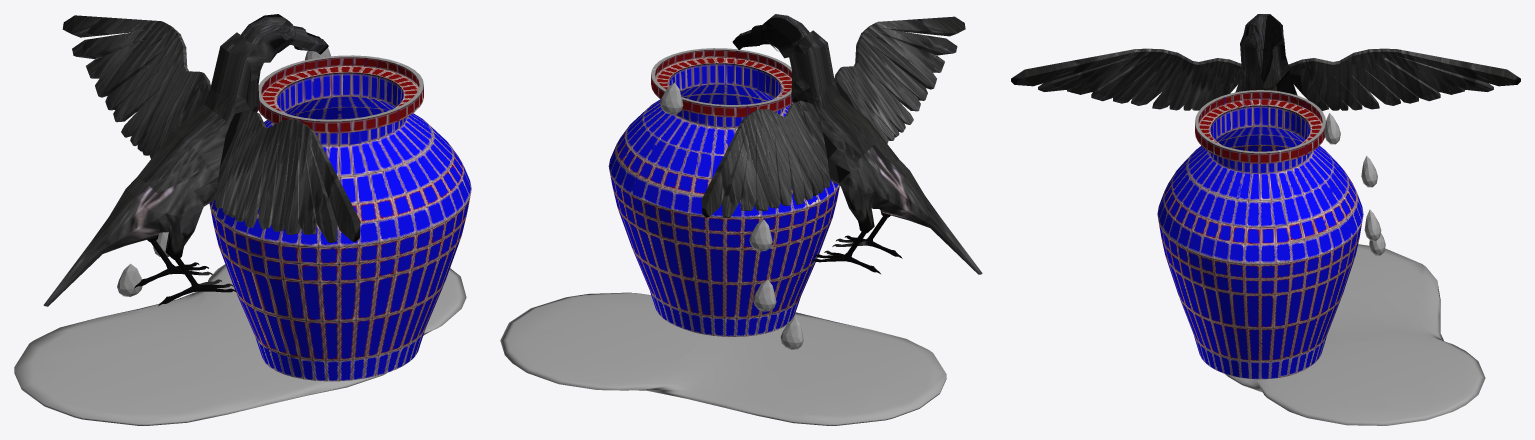
Rendered from bheegahuakaua17.obj.
The picture shows the model from 3 angles, left to right: view 1: azimuth 30°, elevation 25°; view 2: azimuth 150°, elevation 25°; view 3: azimuth 270°, elevation 25°; orthographic projection. The views are drawn at different scales.
Parts seen in each view (by area): view 1: Circle, Cylinder, Mball, Icosphere.002_Icosphere.003; view 2: Circle, Mball, Cylinder, Icosphere_Icosphere.001, Icosphere.002_Icosphere.003, Icosphere.001_Icosphere.002, Icosphere.003_Icosphere.004; view 3: Circle, Mball, Cylinder.
Boxes of the visible parts, x1=… form: Circle: x1=209, y1=55, x2=471, y2=381; Cylinder: x1=43, y1=14, x2=360, y2=306; Mball: x1=14, y1=264, x2=466, y2=425; Icosphere.002_Icosphere.003: x1=117, y1=263, x2=142, y2=296; Circle: x1=608, y1=48, x2=839, y2=336; Mball: x1=500, y1=292, x2=946, y2=425; Cylinder: x1=701, y1=14, x2=982, y2=274; Icosphere_Icosphere.001: x1=753, y1=279, x2=776, y2=311; Icosphere.002_Icosphere.003: x1=780, y1=317, x2=803, y2=349; Icosphere.001_Icosphere.002: x1=749, y1=219, x2=772, y2=251; Icosphere.003_Icosphere.004: x1=660, y1=82, x2=683, y2=114; Circle: x1=1157, y1=90, x2=1363, y2=379; Mball: x1=1225, y1=244, x2=1485, y2=425; Cylinder: x1=1011, y1=14, x2=1520, y2=110.
Size of the model in its own units: 1.18 by 0.8835 by 1.28.
Materials: 10 (3 with a texture image).
